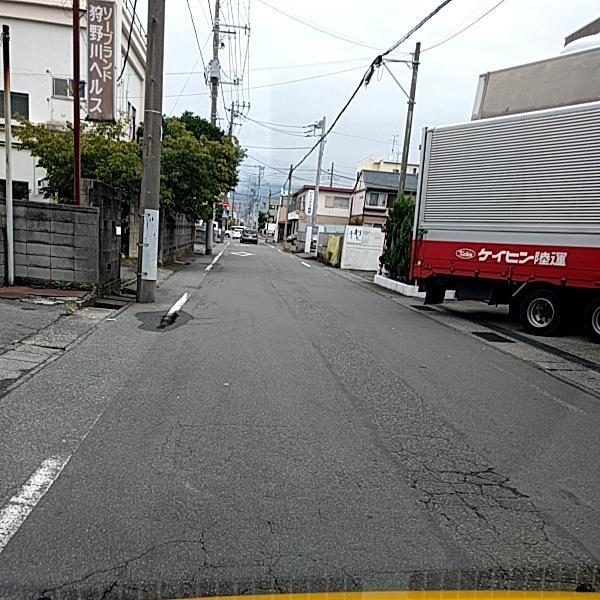D20: (384, 428, 579, 567), (33, 513, 362, 590)
D44: (10, 291, 208, 541)
